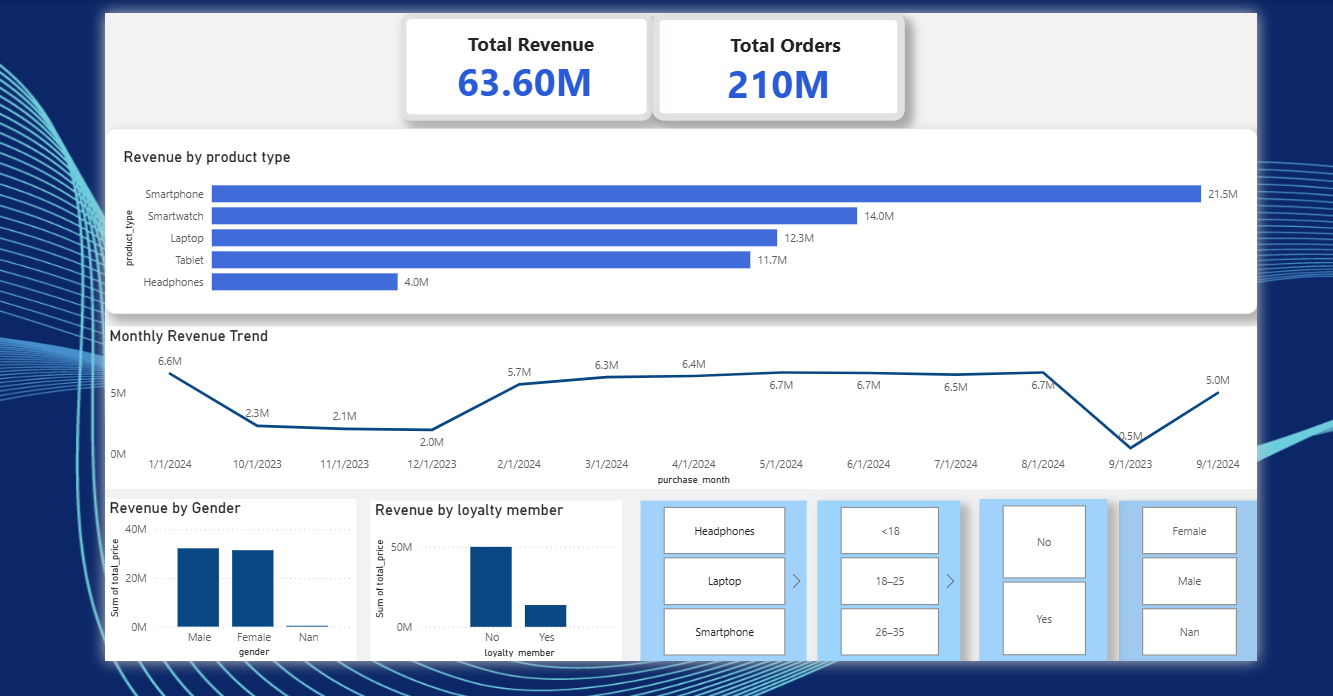

The dashboard page shown, as its layout file describes it:
{"tool":"powerbi","page":{"name":"Page 1","canvas":[1280,720],"ordinal":0},"visuals":[{"type":"card","title":"Total Revenue","fields":{"Values":["Sum(electronic_sales_clean.total_price)"]},"box":[328.8,0,279.7,119.1],"z":0},{"type":"card","title":"Total Orders","fields":{"Values":["Sum(electronic_sales_clean.customer_id)"]},"box":[608.5,0,279.7,119.1],"z":1},{"type":"clusteredBarChart","title":"Revenue by product type","fields":{"Category":["electronic_sales_clean.product_type"],"Y":["Sum(electronic_sales_clean.total_price)"]},"box":[0,128.9,1280.6,206.3],"z":2},{"type":"clusteredColumnChart","title":"Revenue by Gender","fields":{"Category":["electronic_sales_clean.gender"],"Y":["Sum(electronic_sales_clean.total_price)"]},"box":[0,540,279.3,180.5],"z":3},{"type":"clusteredColumnChart","title":"Revenue by loyalty member","fields":{"Category":["electronic_sales_clean.loyalty_member"],"Y":["Sum(electronic_sales_clean.total_price)"]},"box":[295.1,541.4,279.3,179],"z":4},{"type":"lineChart","title":"Monthly Revenue Trend","fields":{"Category":["electronic_sales_clean.purchase_month"],"Y":["Sum(electronic_sales_clean.total_price)"]},"box":[0,347.6,1280,180.4],"z":5},{"type":"slicer","fields":{"Values":["electronic_sales_clean.gender"]},"box":[1125.9,541.4,154.7,179],"z":6},{"type":"slicer","fields":{"Values":["electronic_sales_clean.age_group"]},"box":[792.1,541.4,159,179],"z":7},{"type":"slicer","fields":{"Values":["electronic_sales_clean.loyalty_member"]},"box":[971.2,540,141.8,180.5],"z":8},{"type":"slicer","fields":{"Values":["electronic_sales_clean.product_type"]},"box":[594.4,541.4,184.8,179],"z":9}]}

Visuals, with their boxes on the page's 1280x720 design canvas (x1, y1, x2, y2). These are canvas units, not pixel positions in the 1333x696 screenshot, which may show the page scaled, cropped or inside an application window:
"Total Revenue" card: Rect(329, 0, 608, 119)
"Total Orders" card: Rect(608, 0, 888, 119)
"Revenue by product type" clusteredBarChart: Rect(0, 129, 1281, 335)
"Revenue by Gender" clusteredColumnChart: Rect(0, 540, 279, 720)
"Revenue by loyalty member" clusteredColumnChart: Rect(295, 541, 574, 720)
"Monthly Revenue Trend" lineChart: Rect(0, 348, 1280, 528)
slicer - electronic_sales_clean.gender: Rect(1126, 541, 1281, 720)
slicer - electronic_sales_clean.age_group: Rect(792, 541, 951, 720)
slicer - electronic_sales_clean.loyalty_member: Rect(971, 540, 1113, 720)
slicer - electronic_sales_clean.product_type: Rect(594, 541, 779, 720)
